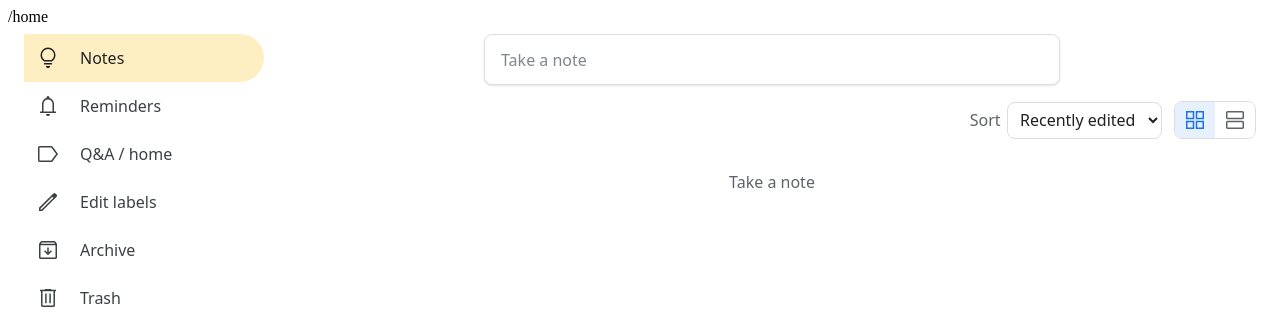
Test: view routes › encodes a label name and opens that label from the encoded address
Later steps or results of the test are not shown.
Click the button "Q&A / home".
click(144, 154)  # box [24,130,264,178]
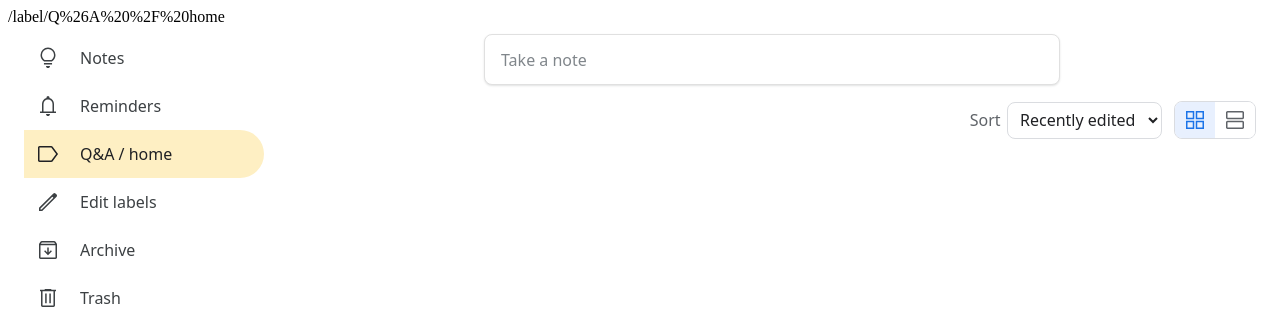
Now the button "Q&A / home" is marked as current, box [24,130,264,178]
Now the button "Notes" does not have attribute aria-current, box [24,34,264,82]
